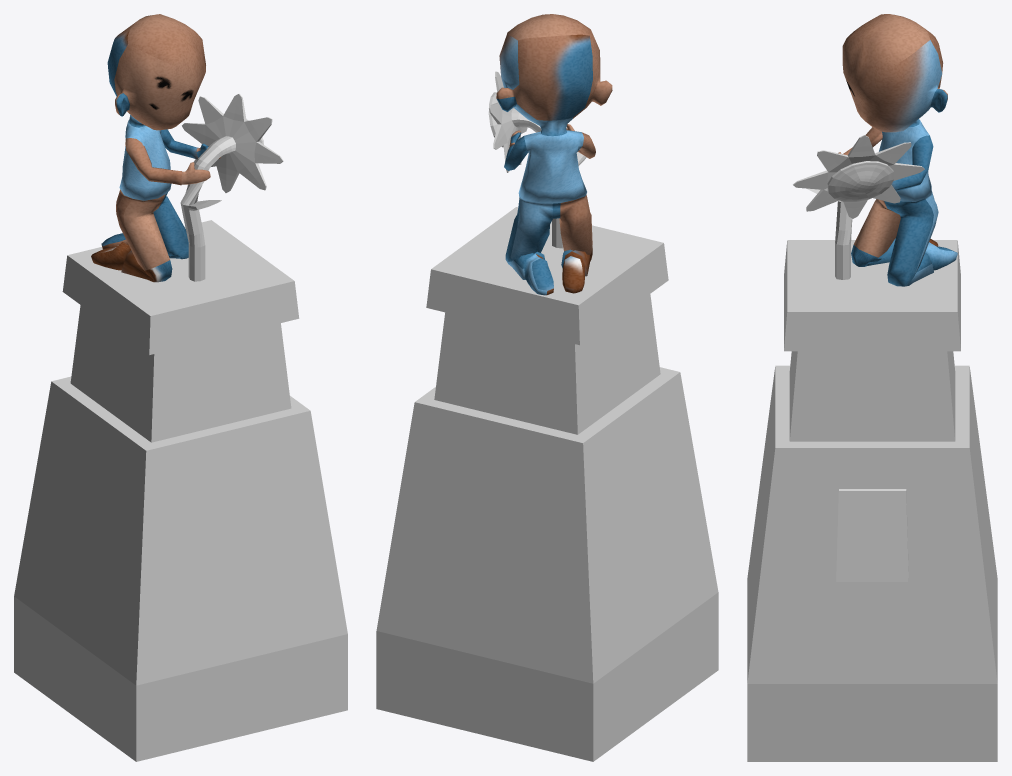
Rendered from Estátua.fbx.
The picture shows the model from 3 angles, left to right: view 1: azimuth 30°, elevation 25°; view 2: azimuth 150°, elevation 25°; view 3: azimuth 270°, elevation 25°; orthographic projection. The views are drawn at different scales.
Visible parts, largest first — view 1: Estatua_boneco; view 2: Estatua_boneco; view 3: Estatua_boneco.
Boxes of the visible parts, x1,y1,x2,y2 form: Estatua_boneco: (14, 14, 347, 761); Estatua_boneco: (376, 14, 718, 761); Estatua_boneco: (747, 14, 997, 761).
Size of the model in its own units: 68.19 by 205 by 68.19.
